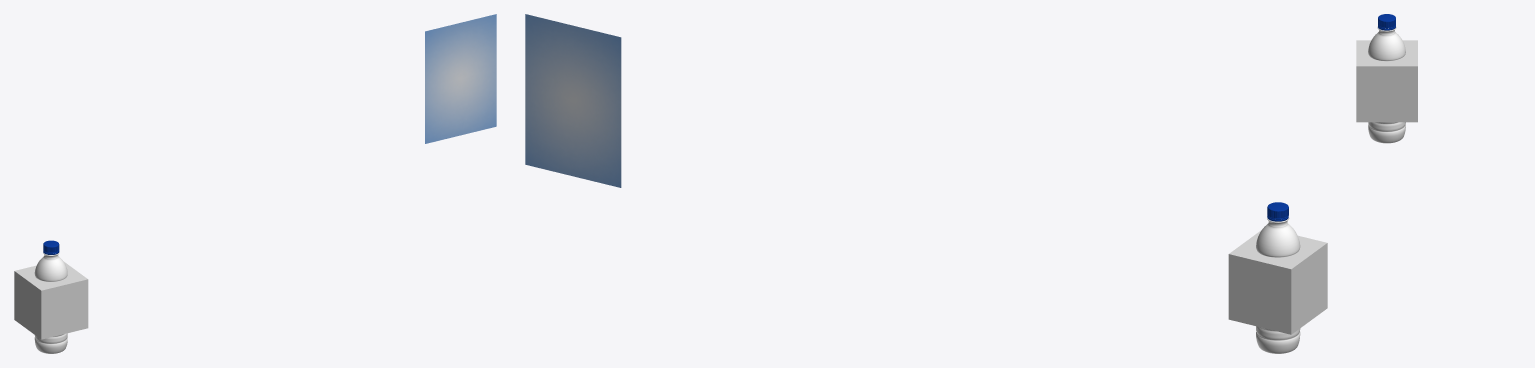
The model's file is Nurture Rotation Animation 1.glb.
The picture shows the model from 3 angles, left to right: view 1: azimuth 30°, elevation 25°; view 2: azimuth 150°, elevation 25°; view 3: azimuth 270°, elevation 25°; orthographic projection. The views are drawn at different scales.
Visible parts, largest first — view 1: ChatGPT Image Jun 26, 2026, 02_17_33 AM.001, Cube.001, Cylinder.005; view 2: ChatGPT Image Jun 26, 2026, 02_17_33 AM.001, Cube.001, Cylinder.005; view 3: Cube.001, Cylinder.005, Cylinder.006.
Part boxes in pixels (x1,y1,x2,y2): ChatGPT Image Jun 26, 2026, 02_17_33 AM.001: [425, 14, 496, 143]; Cube.001: [14, 261, 88, 339]; Cylinder.005: [34, 251, 67, 353]; ChatGPT Image Jun 26, 2026, 02_17_33 AM.001: [525, 14, 621, 187]; Cube.001: [1228, 230, 1327, 334]; Cylinder.005: [1256, 216, 1300, 353]; Cube.001: [1356, 40, 1417, 122]; Cylinder.005: [1368, 26, 1405, 143]; Cylinder.006: [1378, 14, 1395, 28].
Bounding box in the file's own units: 22.53 × 6.89 × 5.34.
5 materials, 2 textured.
